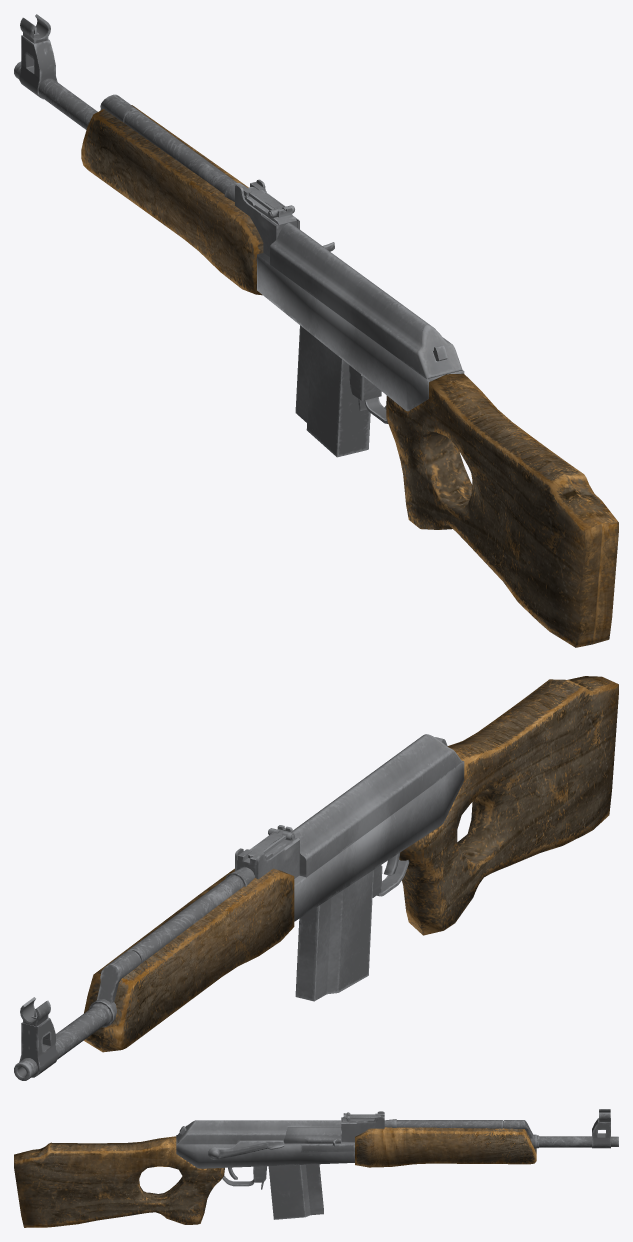
Rendered from rifle.glb.
The picture shows the model from 3 angles, top to bottom: view 1: azimuth 30°, elevation 25°; view 2: azimuth 150°, elevation 25°; view 3: azimuth 270°, elevation 25°; orthographic projection. The views are drawn at different scales.
Parts seen in each view (by area): view 1: Stock lowpoly, Hand Lowpoly, Krishka lowpoly, Base lowpoly, Mag lowpoly, Barell lowpoly, Gasblock lowpoly, Stenki Lowpoly; view 2: Stock lowpoly, Hand Lowpoly, Krishka lowpoly, Mag lowpoly, Base lowpoly, Gasblock lowpoly, Barell lowpoly, Stenki Lowpoly, Mushka lowpoly, Celik bottom Lowpoly; view 3: Stock lowpoly, Hand Lowpoly, Base lowpoly, Krishka lowpoly, Mag lowpoly, Barell lowpoly, Gasblock lowpoly, Zatv lowpoly, Flag Lowpoly, Stenki Lowpoly, Realise lowpoly, Celik Lowpoly (+1 smaller).
Part boxes in pixels (x1,y1,x2,y2): Stock lowpoly: [386, 373, 618, 647]; Hand Lowpoly: [81, 105, 263, 295]; Krishka lowpoly: [270, 223, 462, 378]; Base lowpoly: [257, 253, 464, 411]; Mag lowpoly: [295, 325, 370, 457]; Barell lowpoly: [14, 35, 97, 129]; Gasblock lowpoly: [100, 94, 242, 201]; Stenki Lowpoly: [235, 179, 299, 256]; Stock lowpoly: [399, 676, 618, 935]; Hand Lowpoly: [83, 868, 294, 1052]; Krishka lowpoly: [292, 734, 462, 877]; Mag lowpoly: [295, 870, 373, 1001]; Base lowpoly: [294, 760, 464, 921]; Gasblock lowpoly: [96, 867, 254, 1003]; Barell lowpoly: [14, 999, 116, 1080]; Stenki Lowpoly: [235, 838, 299, 879]; Mushka lowpoly: [20, 997, 50, 1026]; Celik bottom Lowpoly: [237, 837, 296, 877]; Stock lowpoly: [14, 1136, 224, 1227]; Hand Lowpoly: [355, 1127, 536, 1167]; Base lowpoly: [176, 1135, 354, 1168]; Krishka lowpoly: [177, 1120, 341, 1144]; Mag lowpoly: [268, 1164, 323, 1219]; Barell lowpoly: [530, 1118, 618, 1149]; Gasblock lowpoly: [384, 1119, 533, 1138]; Zatv lowpoly: [283, 1127, 340, 1143]; Flag Lowpoly: [208, 1140, 284, 1159]; Stenki Lowpoly: [341, 1111, 384, 1142]; Realise lowpoly: [253, 1166, 266, 1182]; Celik Lowpoly: [343, 1113, 380, 1119].
Size of the model in its own units: 0.3061 by 0.9762 by 4.72.
1 material, 1 textured.
